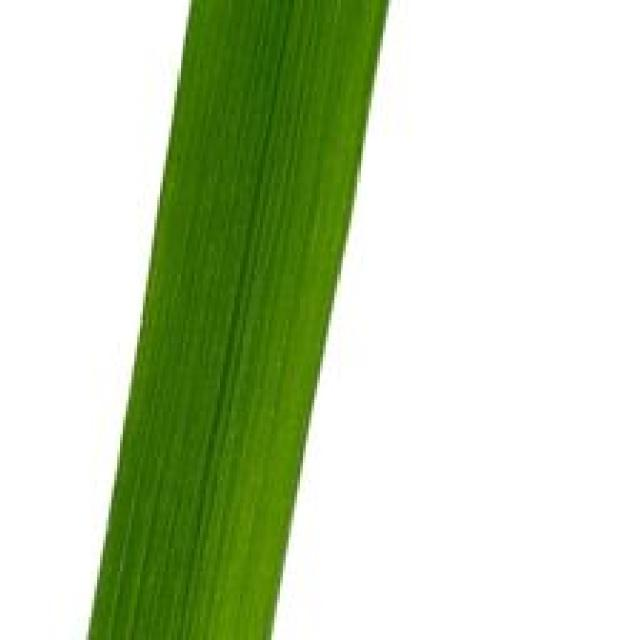Rice___Healthy_Rice_Plant: (88, 0, 391, 637)
